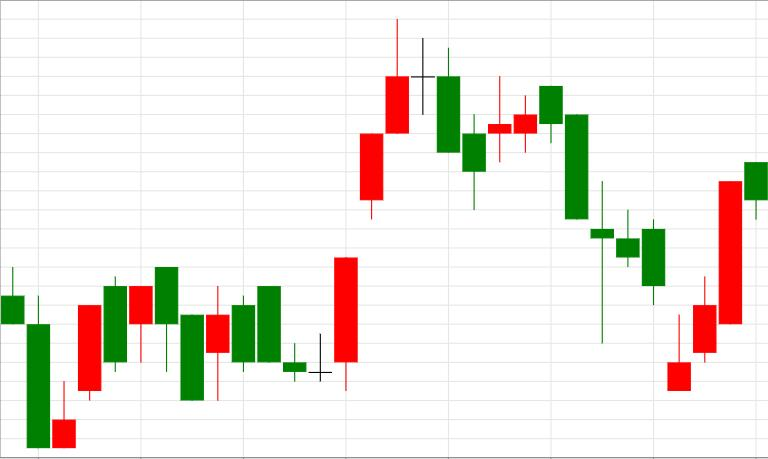evening_star_fall: (309, 19, 460, 391)
inverse_hammer_rise: (539, 86, 691, 391)
three_white_soldiers_rise: (233, 19, 409, 390)
